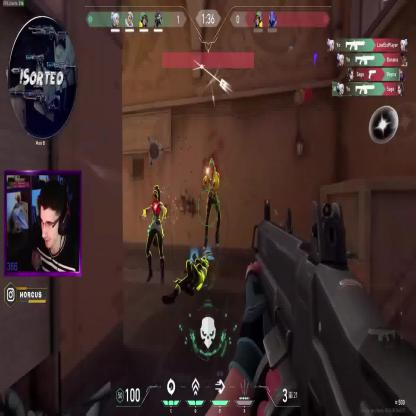enemy: (141, 185, 168, 284), (201, 158, 222, 250)
enemy_head: (152, 184, 160, 203), (209, 158, 215, 174)
